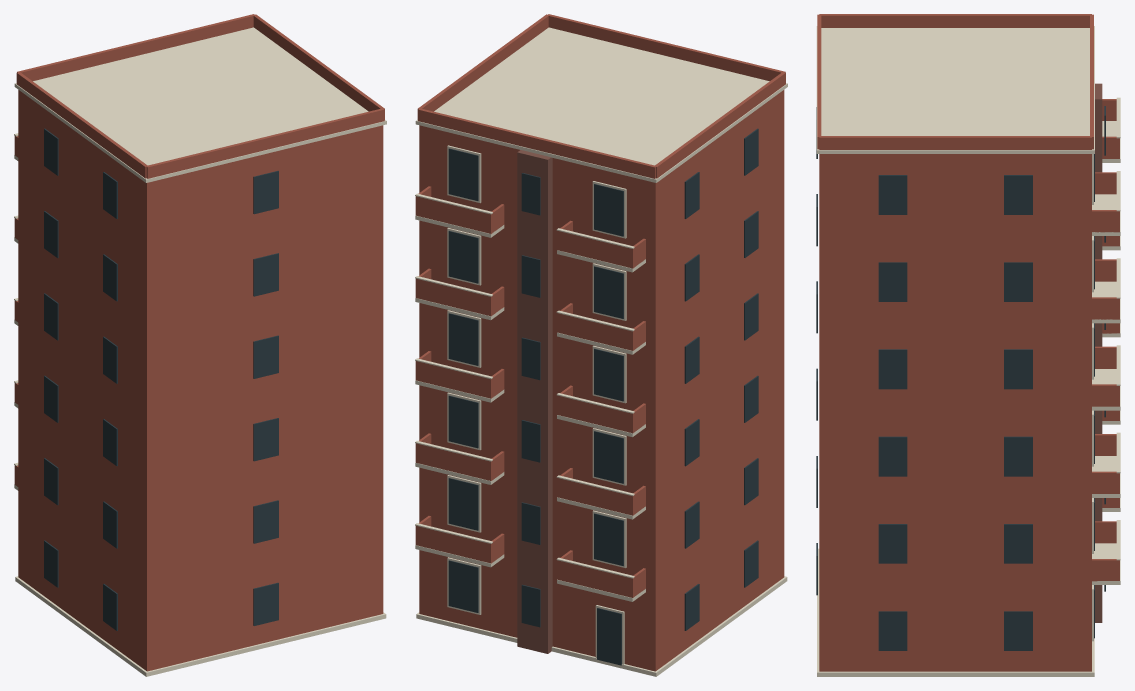
Rendered from KOL_T3_MOD_04.fbx.
The picture shows the model from 3 angles, left to right: view 1: azimuth 30°, elevation 25°; view 2: azimuth 150°, elevation 25°; view 3: azimuth 270°, elevation 25°; orthographic projection. The views are drawn at different scales.
Parts seen in each view (by area): view 1: KOL_T3_MOD_04__Body, KOL_T3_MOD_04__Trim, KOL_T3_MOD_04__Dark; view 2: KOL_T3_MOD_04__Body, KOL_T3_MOD_04__Trim, KOL_T3_MOD_04__Dark, KOL_T3_MOD_04__Accent; view 3: KOL_T3_MOD_04__Body, KOL_T3_MOD_04__Trim, KOL_T3_MOD_04__Dark, KOL_T3_MOD_04__Accent.
Boxes of the visible parts, x1,y1,x2,y2 form: KOL_T3_MOD_04__Body: (14, 14, 384, 671); KOL_T3_MOD_04__Trim: (14, 27, 386, 676); KOL_T3_MOD_04__Dark: (44, 128, 278, 630); KOL_T3_MOD_04__Body: (415, 14, 785, 671); KOL_T3_MOD_04__Trim: (415, 27, 787, 676); KOL_T3_MOD_04__Dark: (448, 128, 758, 665); KOL_T3_MOD_04__Accent: (517, 150, 552, 653); KOL_T3_MOD_04__Body: (817, 14, 1119, 671); KOL_T3_MOD_04__Trim: (816, 26, 1120, 676); KOL_T3_MOD_04__Dark: (816, 106, 1105, 650); KOL_T3_MOD_04__Accent: (1095, 83, 1102, 622).
Size of the model in its own units: 36.74 by 74.15 by 37.92.
